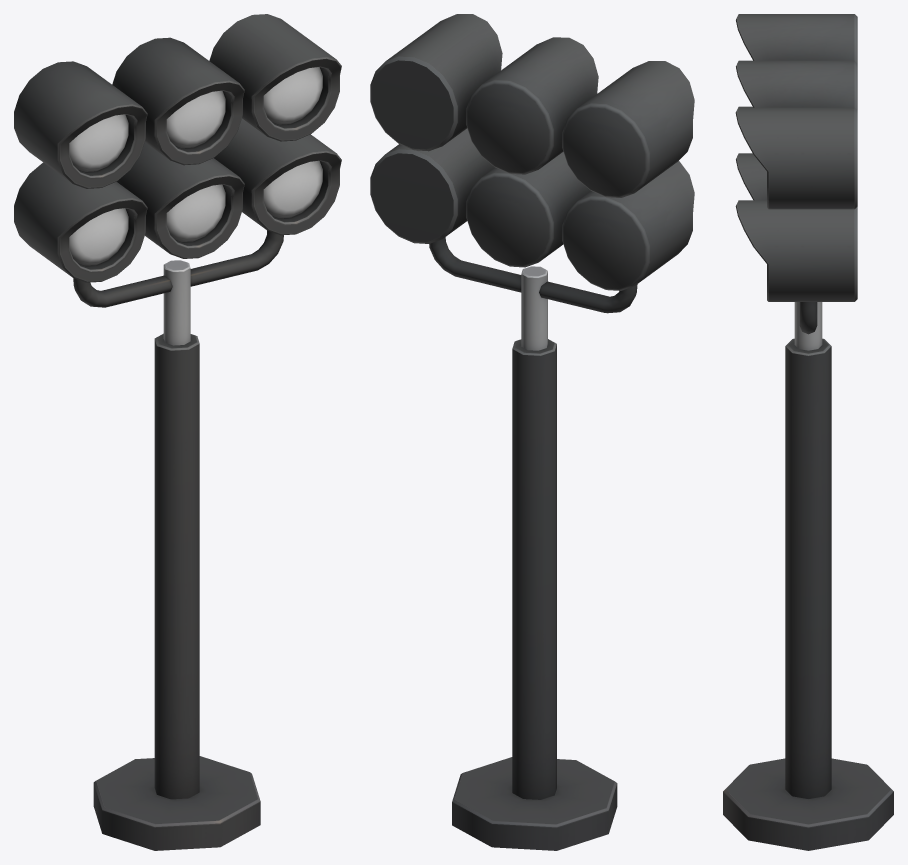
The model's file is searchlight.fbx.
3 renders of one model, left to right at view 1: azimuth 30°, elevation 25°; view 2: azimuth 150°, elevation 25°; view 3: azimuth 270°, elevation 25°, orthographic.
Visible parts, largest first — view 1: searchlight; view 2: searchlight; view 3: searchlight.
Part boxes in pixels (x1,y1,x2,y2): searchlight: [14, 14, 341, 850]; searchlight: [370, 14, 694, 850]; searchlight: [723, 14, 893, 850].
Size of the model in its own units: 219 by 564 by 116.
